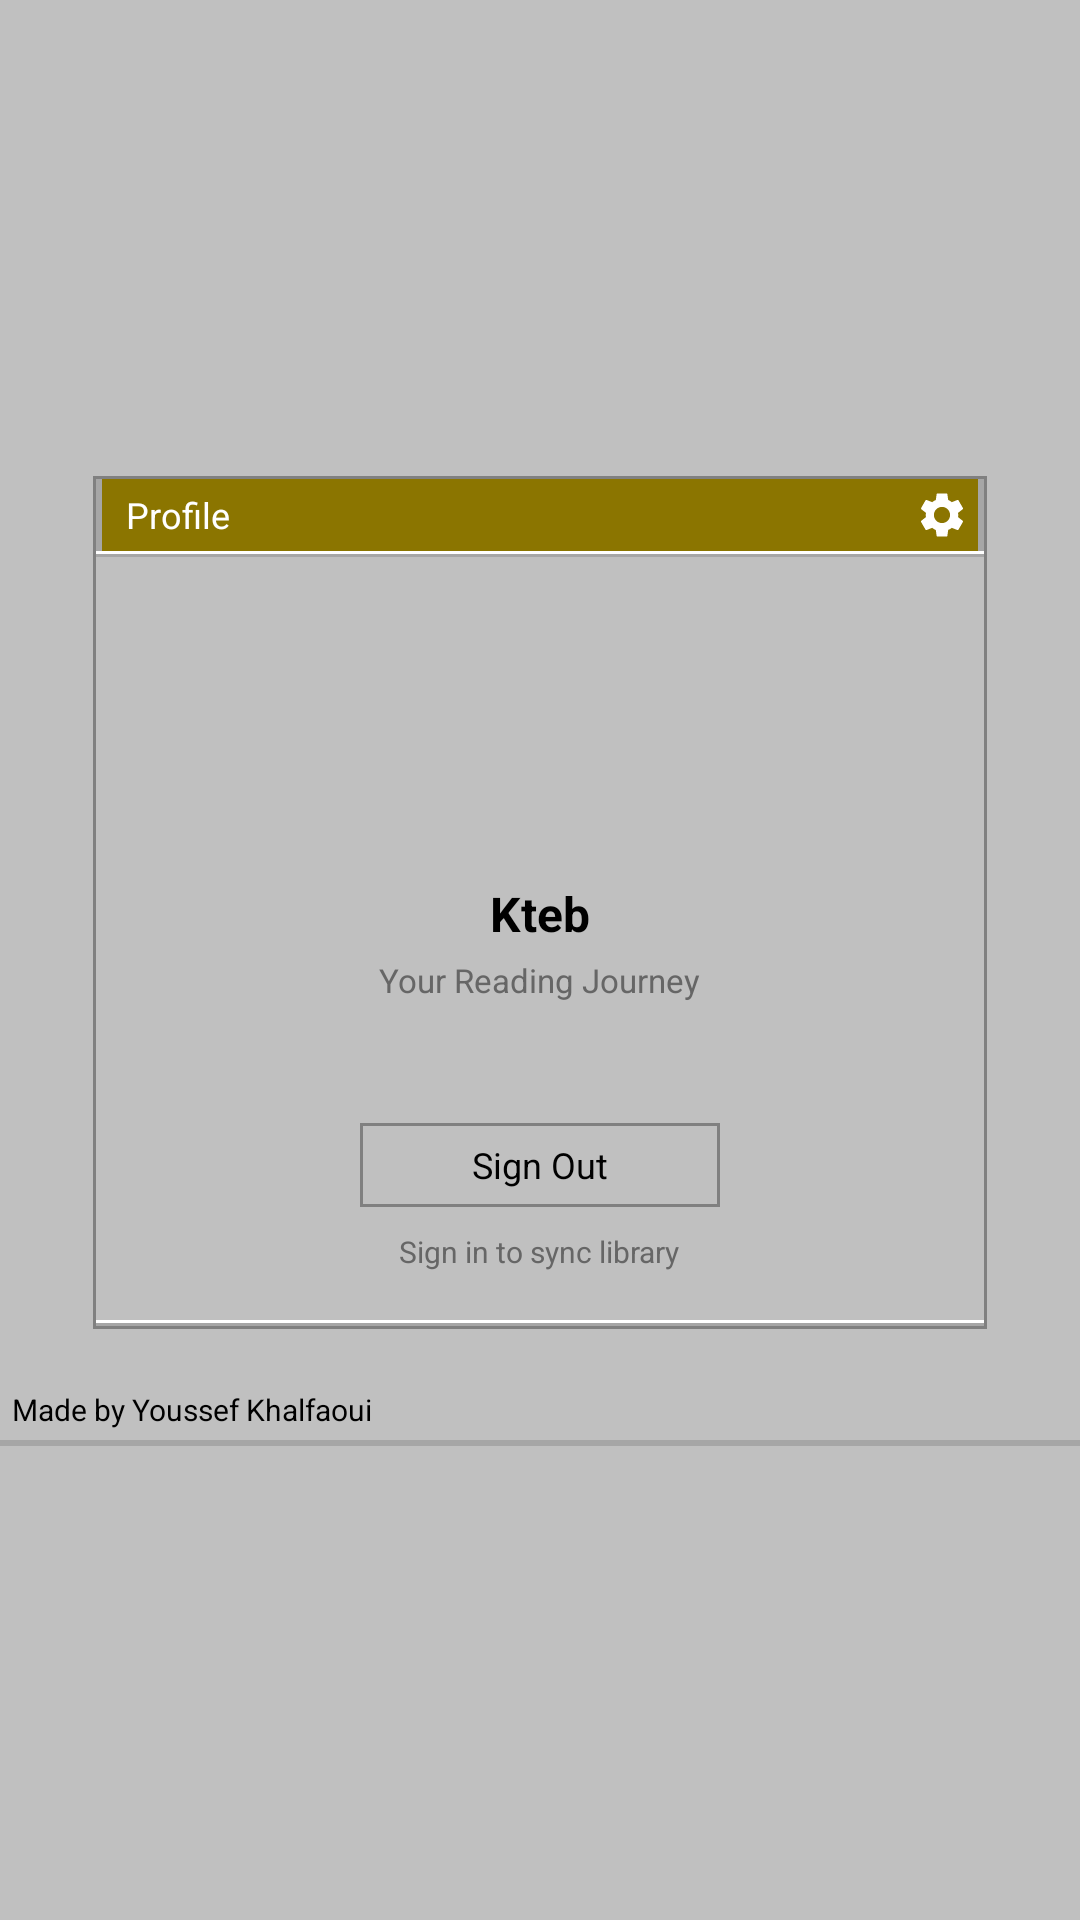

Screen size 1080px×1920px. Icon name, then its center in pixels as (x,y):
settings: (942,515)
